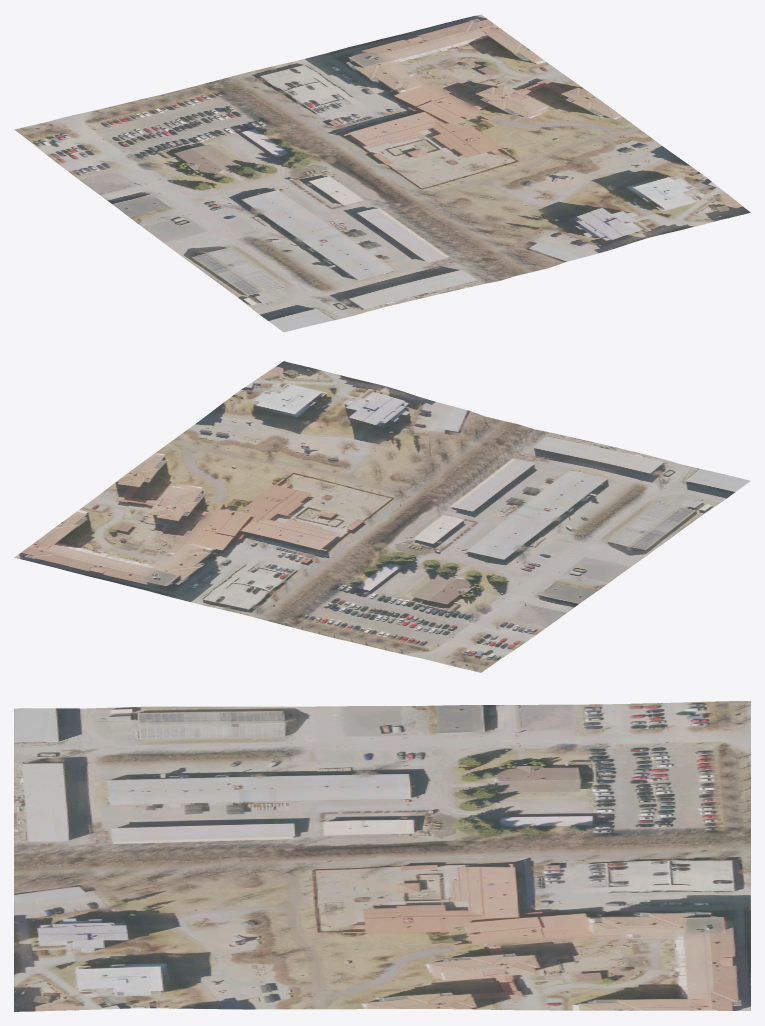
File: CM_Terrain_24486978_6819180.fbx
3 views of the same model, one above another, from view 1: azimuth 30°, elevation 25°; view 2: azimuth 150°, elevation 25°; view 3: azimuth 270°, elevation 25° (orthographic). The views are drawn at different scales.
Parts seen in each view (by area): view 1: CM_Terrain_24486978_6819180_LOD0; view 2: CM_Terrain_24486978_6819180_LOD0; view 3: CM_Terrain_24486978_6819180_LOD0.
Part boxes in pixels (x1,y1,x2,y2): CM_Terrain_24486978_6819180_LOD0: (14, 14, 750, 332); CM_Terrain_24486978_6819180_LOD0: (14, 361, 750, 672); CM_Terrain_24486978_6819180_LOD0: (14, 701, 750, 1011).
Size of what is drawn, in the model's own units: 205 by 4.21 by 205.
